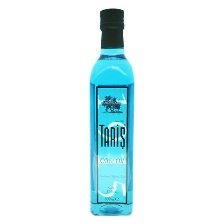bottle: (84, 3, 140, 220)
